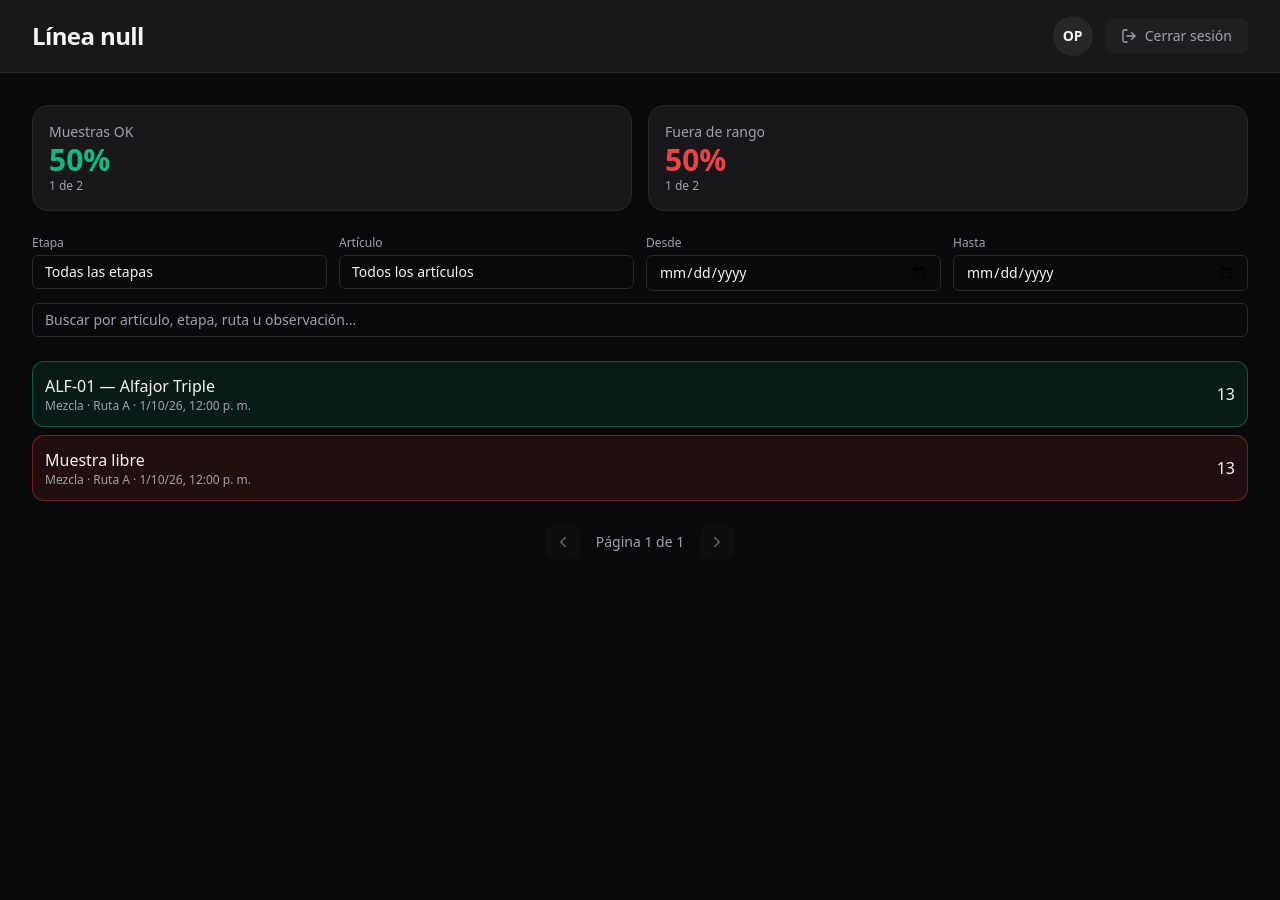
HistorialPage › uses the remote combobox for the selectors: server order, "[código] nombre", bounded page and clearable
Later steps or results of the test are not shown.
Click the button "Todos los artículos" at (413, 272), box [352,262,621,282]
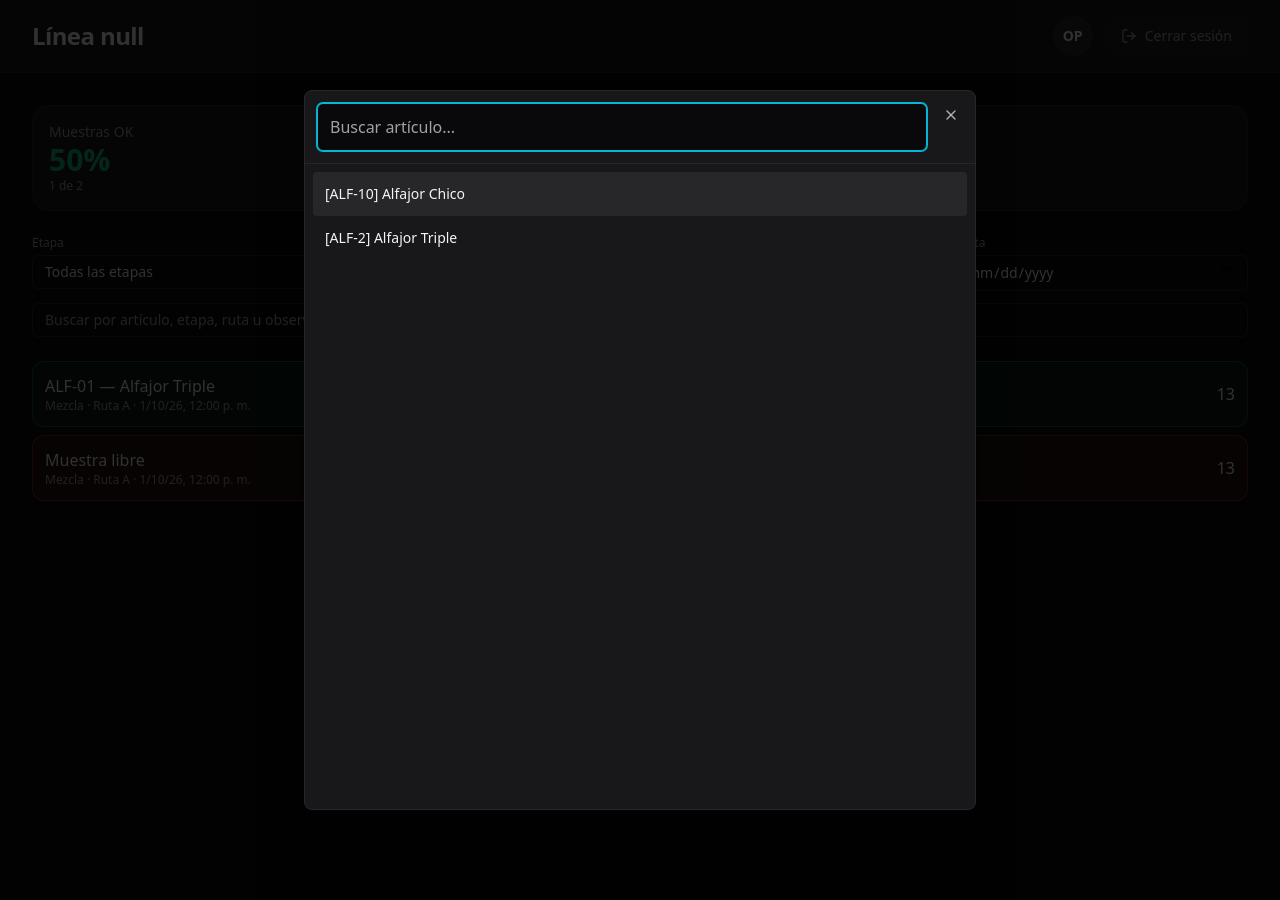
Now the option "[ALF-10] Alfajor Chico" is shown, box [313,172,967,216]
Now the options read "[ALF-10] Alfajor Chico", "[ALF-2] Alfajor Triple", in this order, box [313,172,967,216]; [325,228,457,247]
